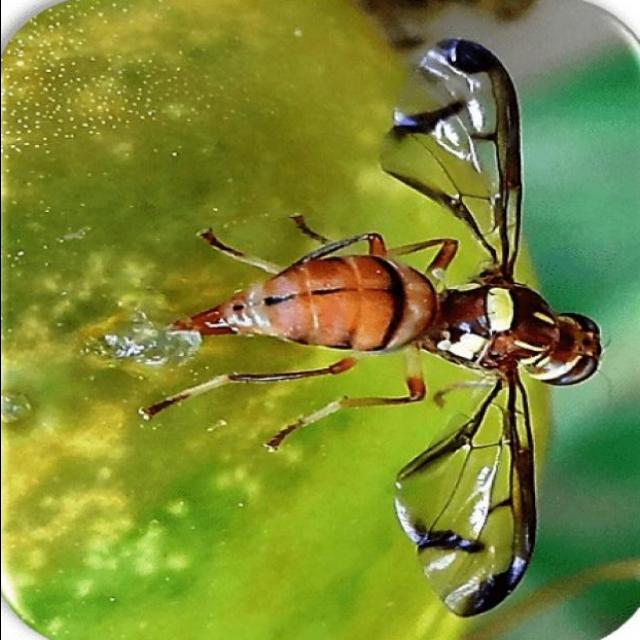Fruit fly: (132, 27, 619, 628)
